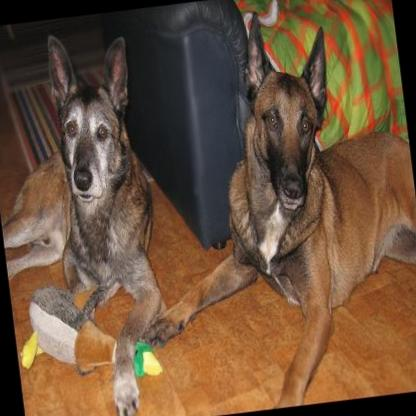malinois: (100, 0, 416, 416), (0, 22, 176, 416)
